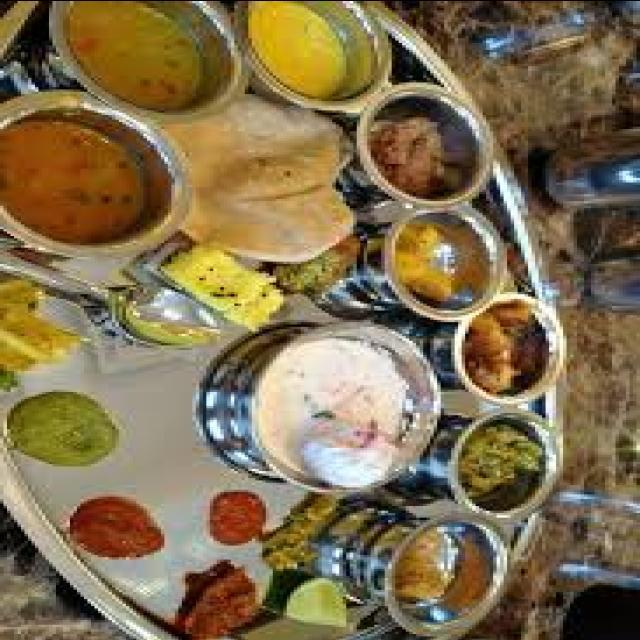dal: (378, 212, 496, 314), (249, 5, 368, 103)
papad: (180, 98, 346, 241)
pickle: (66, 483, 166, 570), (186, 480, 274, 554)
sambar-rasam: (0, 101, 178, 251)
sweet: (233, 325, 450, 490), (0, 101, 175, 254), (448, 303, 562, 399)
veg-fry: (225, 324, 459, 488), (171, 558, 267, 640)
